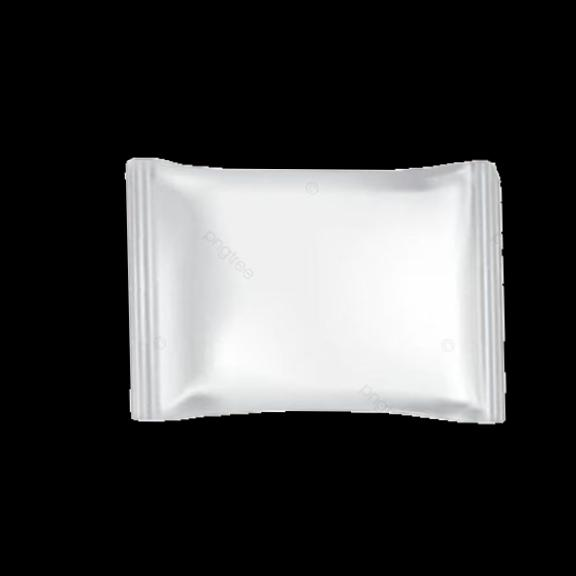Plastik: (117, 152, 513, 429)
